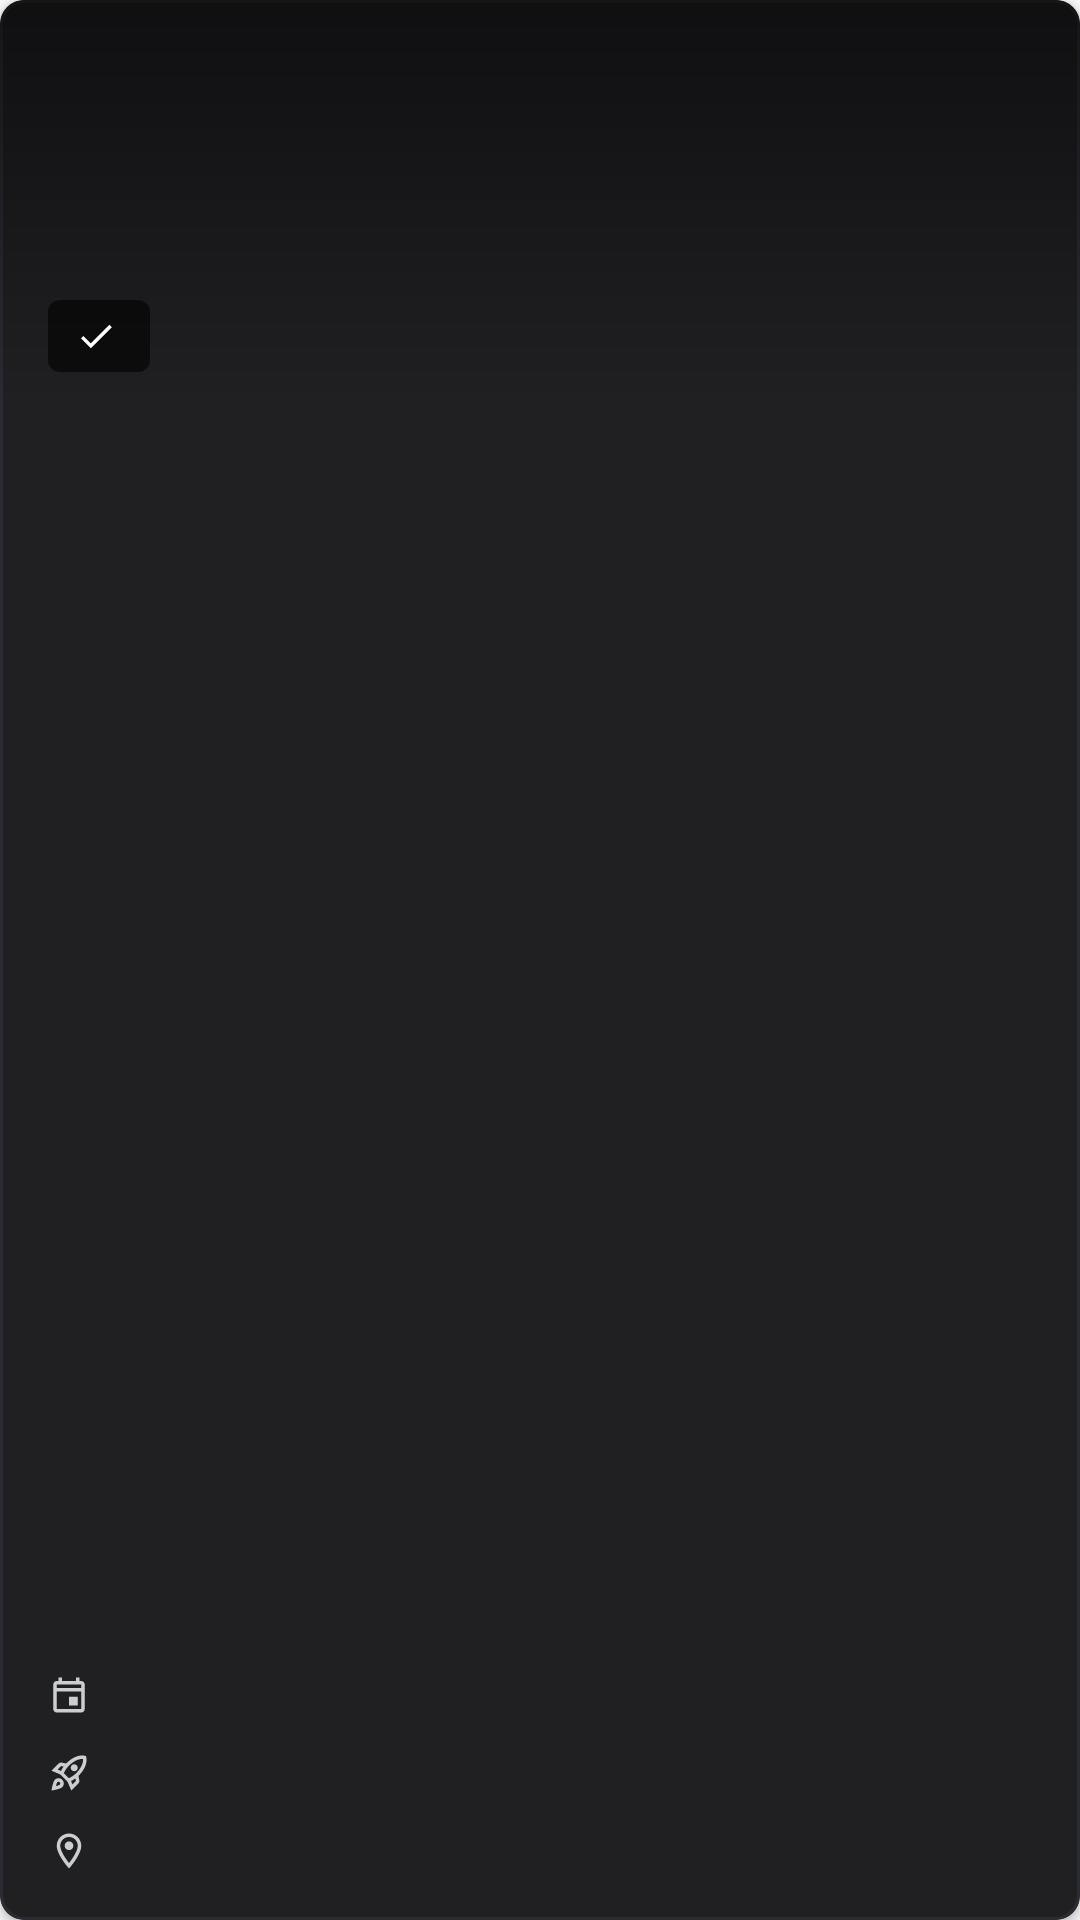

Where icons sit on this 1080px x 1920px app screen, as [x1=x1, y1=y1, x2=x2, y2=y2]:
calendar: [x1=53, y1=1677, x2=85, y2=1713]
rocket launch: [x1=51, y1=1755, x2=87, y2=1791]
room: [x1=56, y1=1833, x2=82, y2=1868]
